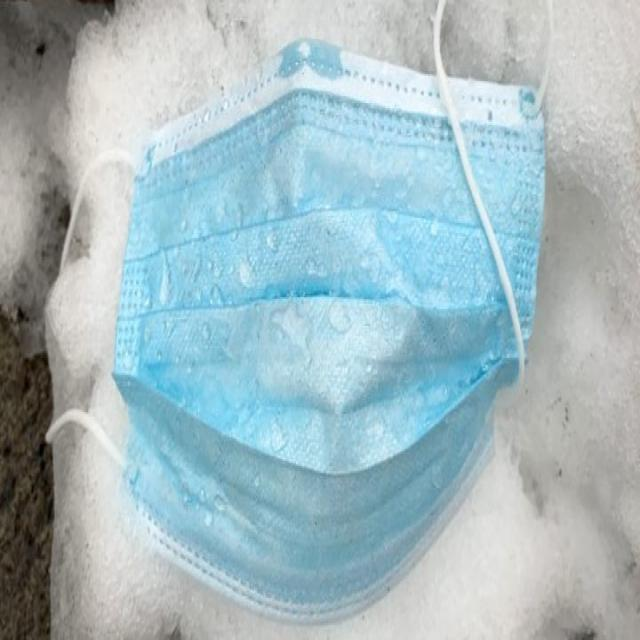face mask: (32, 76, 572, 613)
